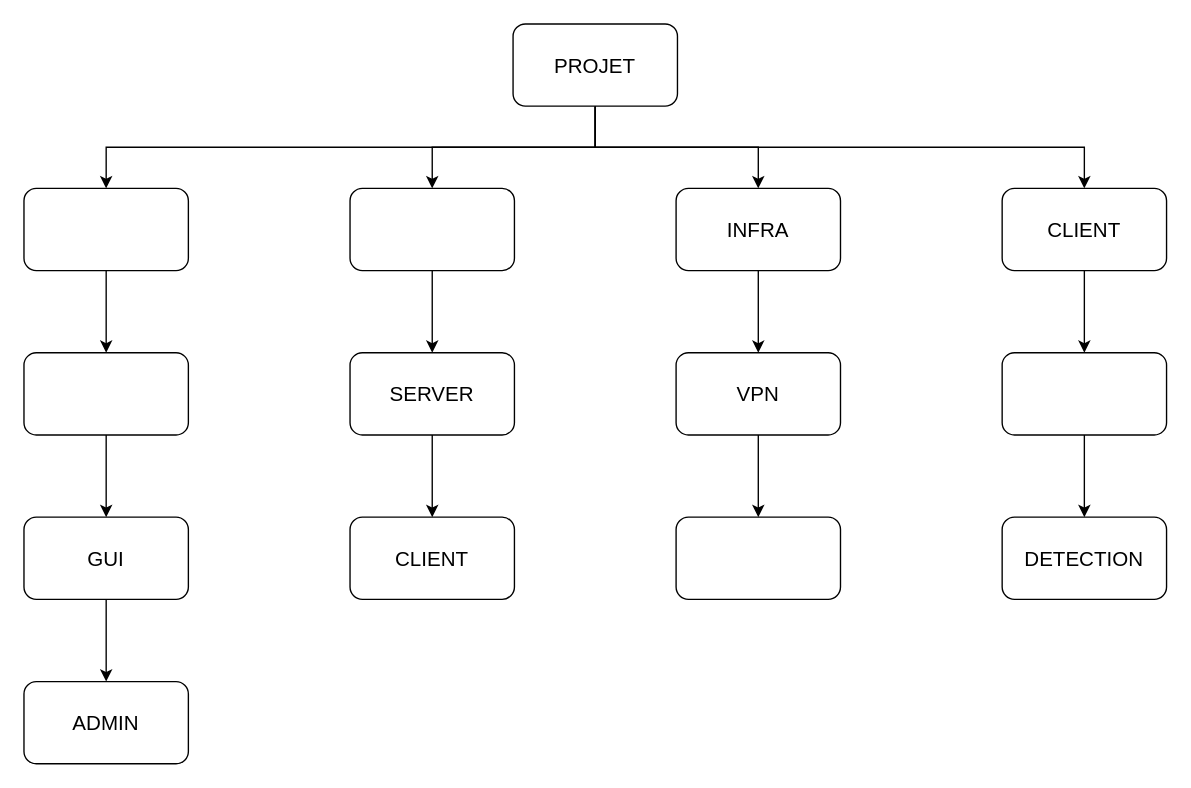
This 1191x788 diagram has some shape labels left out. Here are the shapes that lost their labels. From the top down, the centre of each, then its label:
At (x=105, y=229): "BIN".
At (x=431, y=229): "CRYPTO".
At (x=105, y=393): "CLI".
At (x=1084, y=393): "GATEWAY".
At (x=757, y=557): "PKG".
